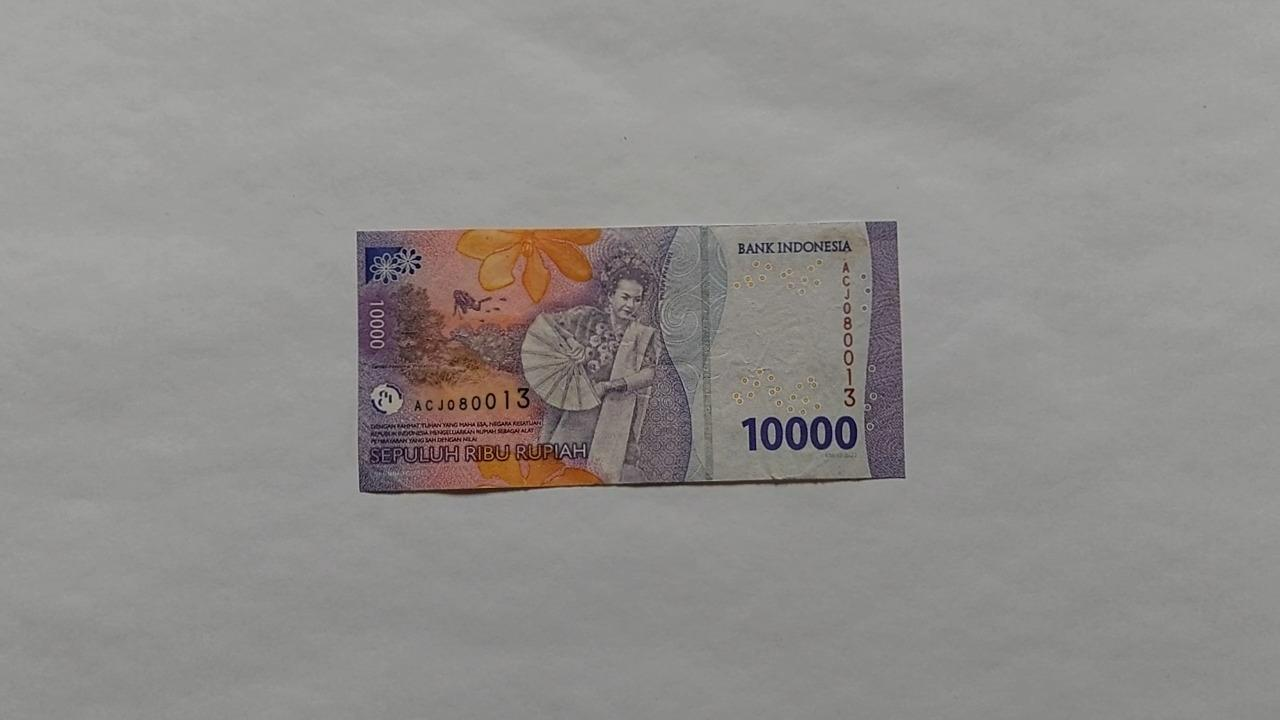Kertas: (355, 219, 905, 494)
